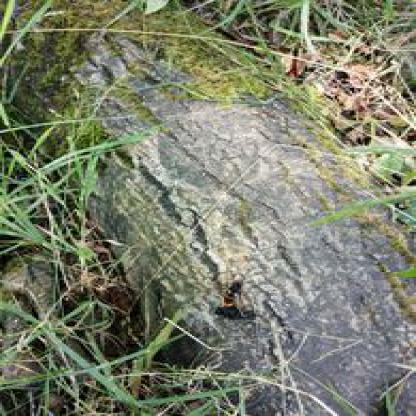Asian Hornet: (212, 270, 262, 311)
